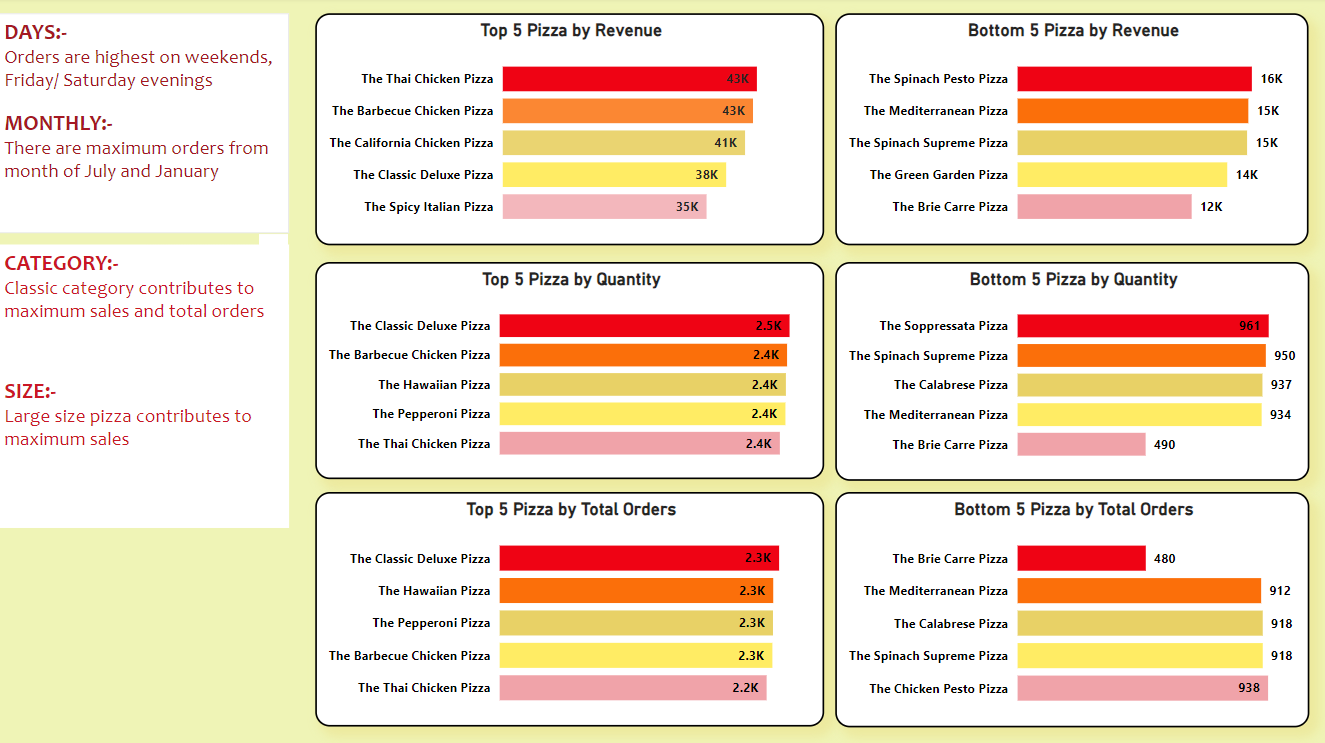

This screenshot's page, from the dashboard's own definition file:
{"tool":"powerbi","page":{"name":"Page 2","canvas":[1280,720],"ordinal":1},"visuals":[{"type":"barChart","title":"Top 5 Pizza by Revenue","fields":{"Y":["pizza_sales.Total Revenue"],"Category":["pizza_sales.pizza_name"]},"box":[304.6,15.1,491.3,223.7],"z":0},{"type":"barChart","title":"Bottom 5 Pizza by Revenue","fields":{"Category":["pizza_sales.pizza_name"],"Y":["pizza_sales.Total Revenue"]},"box":[806.9,15.1,456.9,223.7],"z":1000},{"type":"barChart","title":"Top 5 Pizza by Quantity","fields":{"Category":["pizza_sales.pizza_name"],"Y":["Sum(pizza_sales.quantity)"]},"box":[304.6,255.2,491.3,209.9],"z":2000},{"type":"barChart","title":"Top 5 Pizza by Total Orders","fields":{"Category":["pizza_sales.pizza_name"],"Y":["pizza_sales.Total_orders"]},"box":[304.6,477.5,491.3,226.4],"z":3000},{"type":"barChart","title":"Bottom 5 Pizza by Quantity","fields":{"Category":["pizza_sales.pizza_name"],"Y":["Sum(pizza_sales.quantity)"]},"box":[807.1,255.8,457.2,211.1],"z":4000},{"type":"barChart","title":"Bottom 5 Pizza by Total Orders","fields":{"Category":["pizza_sales.pizza_name"],"Y":["pizza_sales.Total_orders"]},"box":[807.1,477.8,457.2,226.8],"z":5000},{"type":"textbox","box":[0,15.7,279.9,212.3],"z":6000},{"type":"textbox","box":[0,238.9,279.9,273.9],"z":7000}]}

Visuals, with their boxes in screenshot pixels (x1, y1, x2, y2), scaled from the page's 1280x720 canvas onto the 1325x743 screenshot:
"Top 5 Pizza by Revenue" barChart: <region>315, 16, 824, 246</region>
"Bottom 5 Pizza by Revenue" barChart: <region>835, 16, 1308, 246</region>
"Top 5 Pizza by Quantity" barChart: <region>315, 263, 824, 480</region>
"Top 5 Pizza by Total Orders" barChart: <region>315, 493, 824, 726</region>
"Bottom 5 Pizza by Quantity" barChart: <region>835, 264, 1309, 482</region>
"Bottom 5 Pizza by Total Orders" barChart: <region>835, 493, 1309, 727</region>
textbox: <region>0, 16, 290, 235</region>
textbox: <region>0, 247, 290, 529</region>
